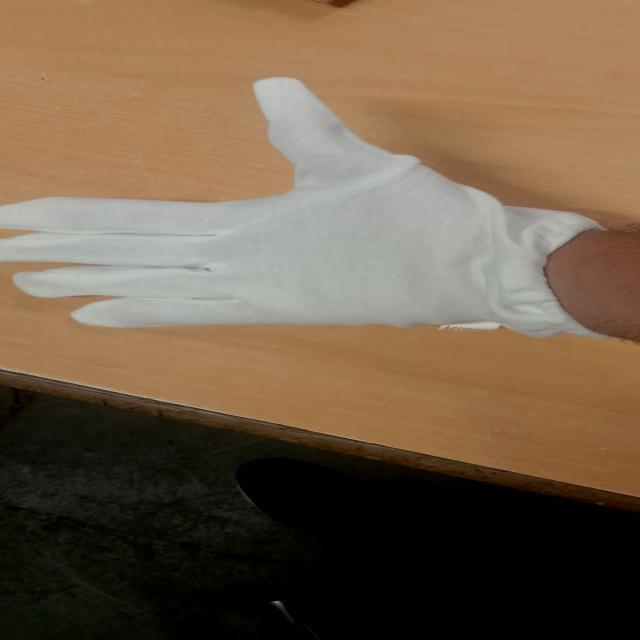glove: (0, 70, 624, 362)
